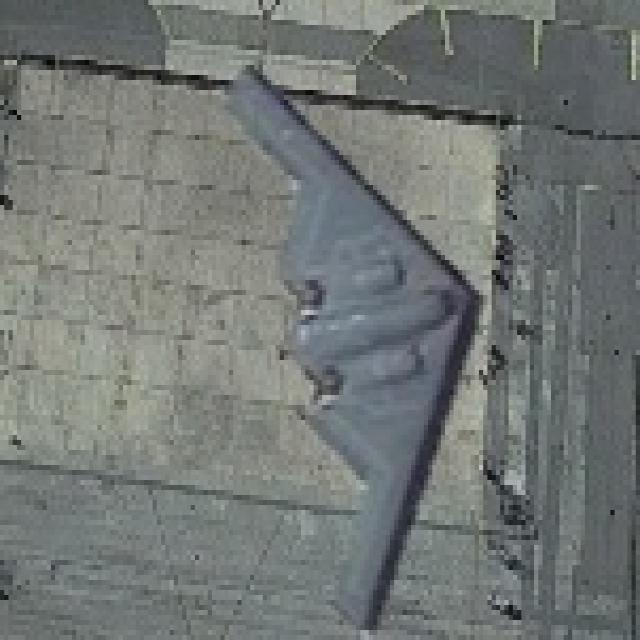B-2_TopDown: (203, 55, 488, 630)
